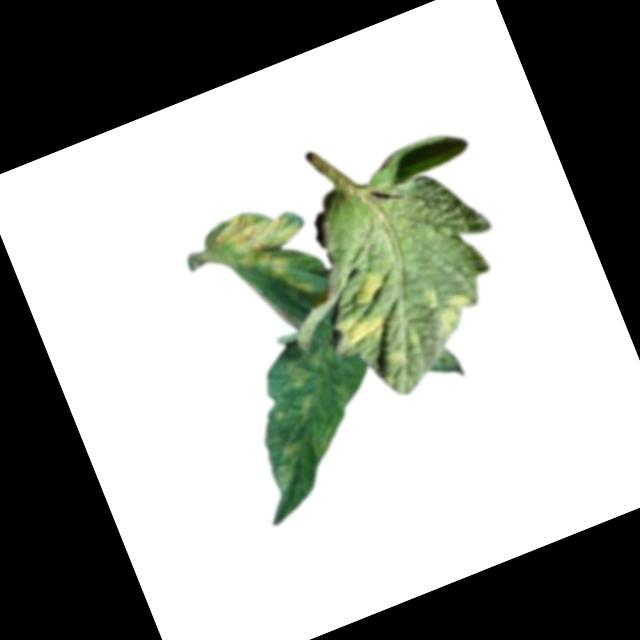Leaf_Mold: (210, 194, 322, 318), (420, 274, 480, 340), (265, 365, 323, 428), (263, 435, 320, 493), (332, 308, 391, 357), (347, 264, 394, 311)
